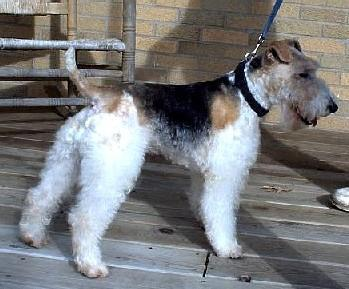wire-haired_fox_terrier: (18, 35, 340, 281)
